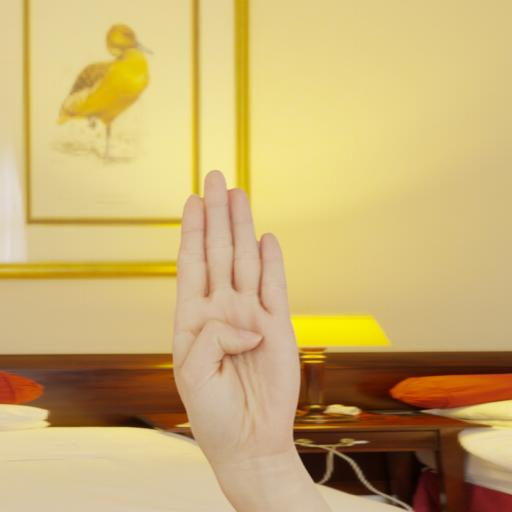B: (162, 161, 316, 460)
